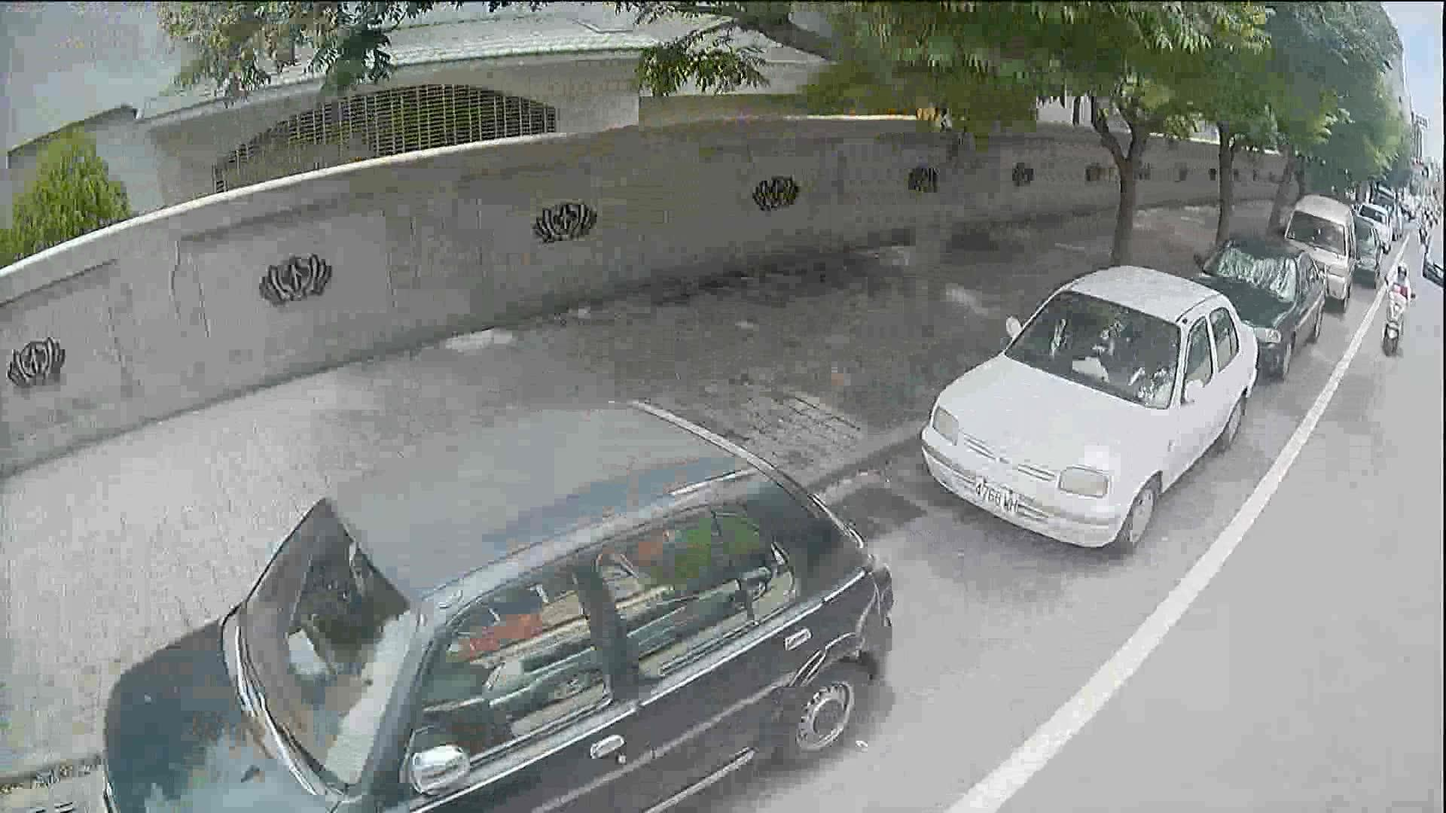person: (1388, 264, 1408, 294)
